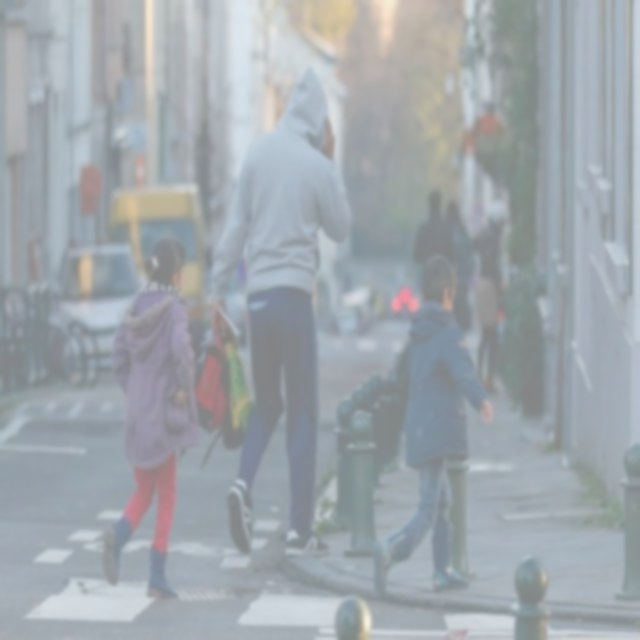pessoa: (207, 62, 354, 558), (369, 252, 496, 600), (100, 233, 203, 603), (468, 207, 513, 396), (444, 200, 474, 332), (474, 263, 501, 396), (412, 188, 454, 266)
